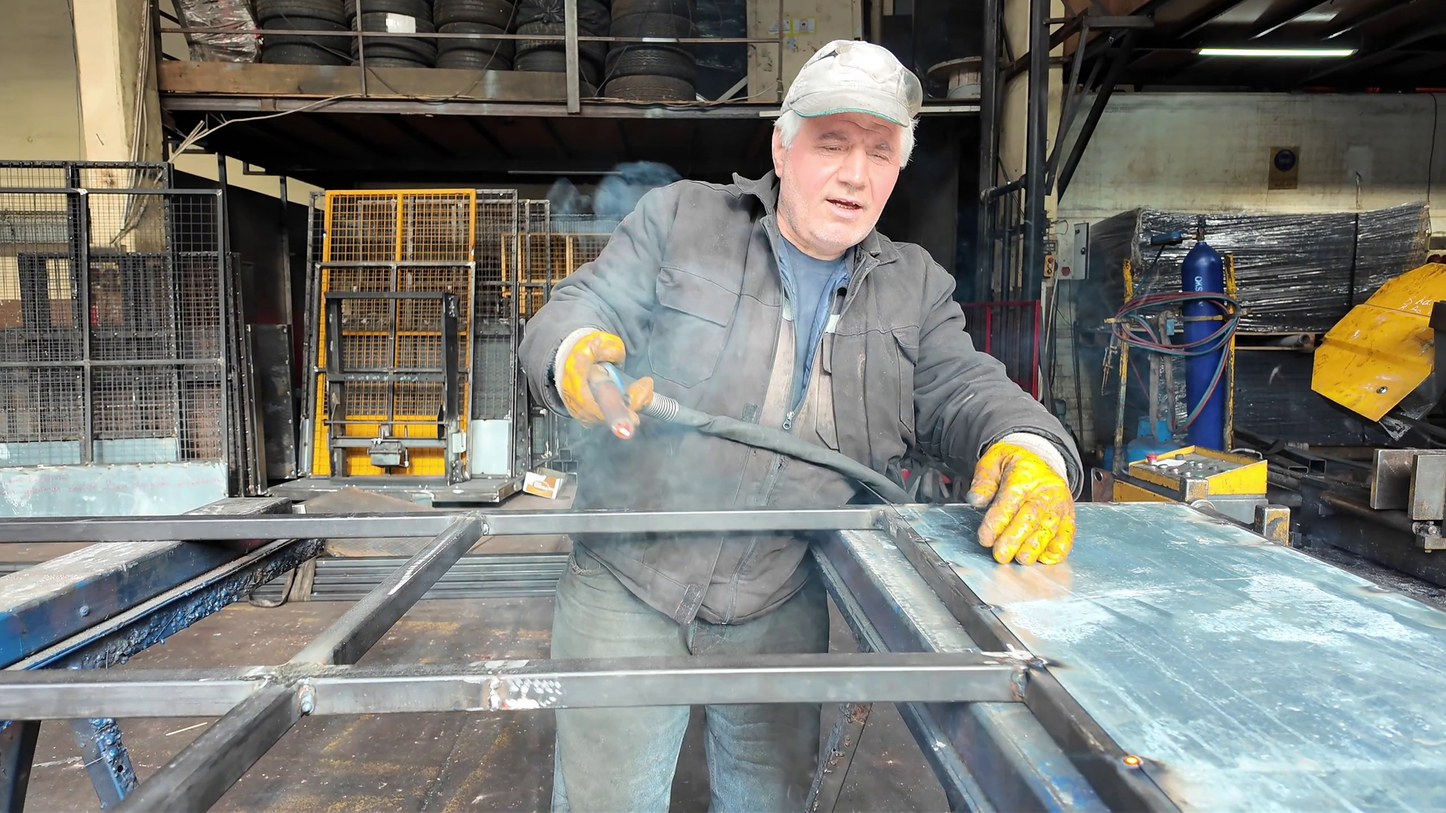person: (519, 36, 1090, 813)
